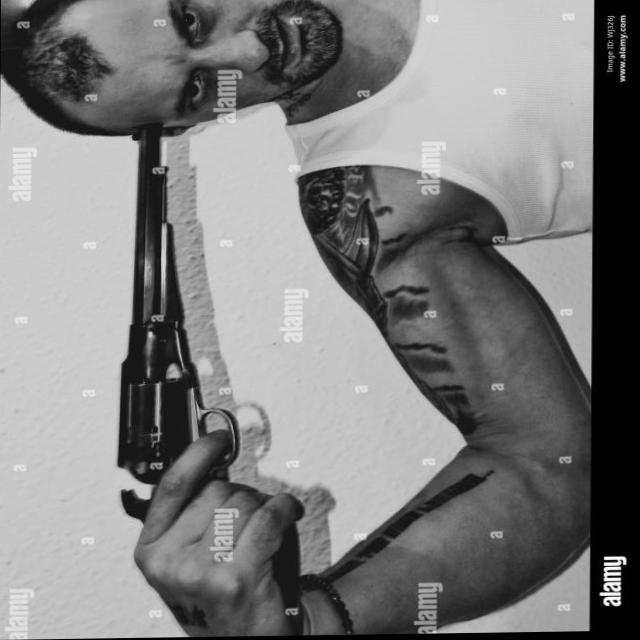handgun: (118, 125, 236, 483)
